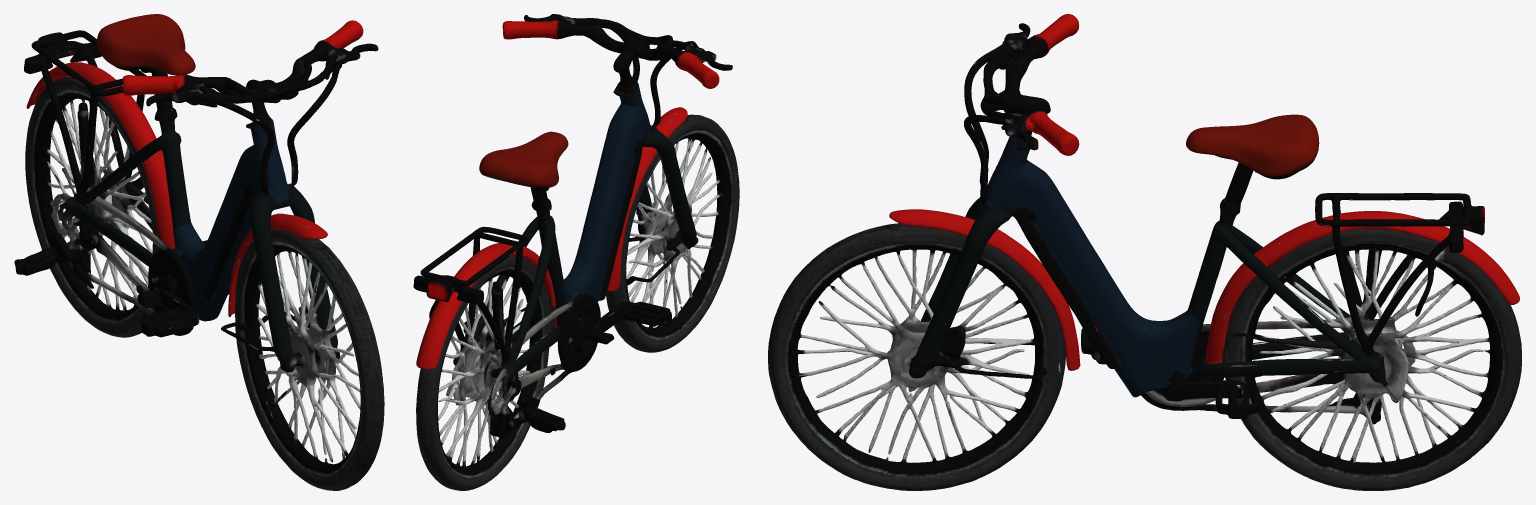
The model's file is 3DGenerator-bicycle-v1-rapid-jpg.glb.
The picture shows the model from 3 angles, left to right: view 1: azimuth 30°, elevation 25°; view 2: azimuth 150°, elevation 25°; view 3: azimuth 270°, elevation 25°; orthographic projection. The views are drawn at different scales.
Size of the model in its own units: 0.4022 by 0.6109 by 1.
Materials: 1 (1 with a texture image).
